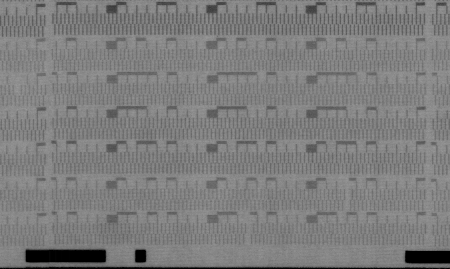Broken hole: (242, 222, 255, 246), (342, 190, 355, 211), (12, 78, 24, 97)
